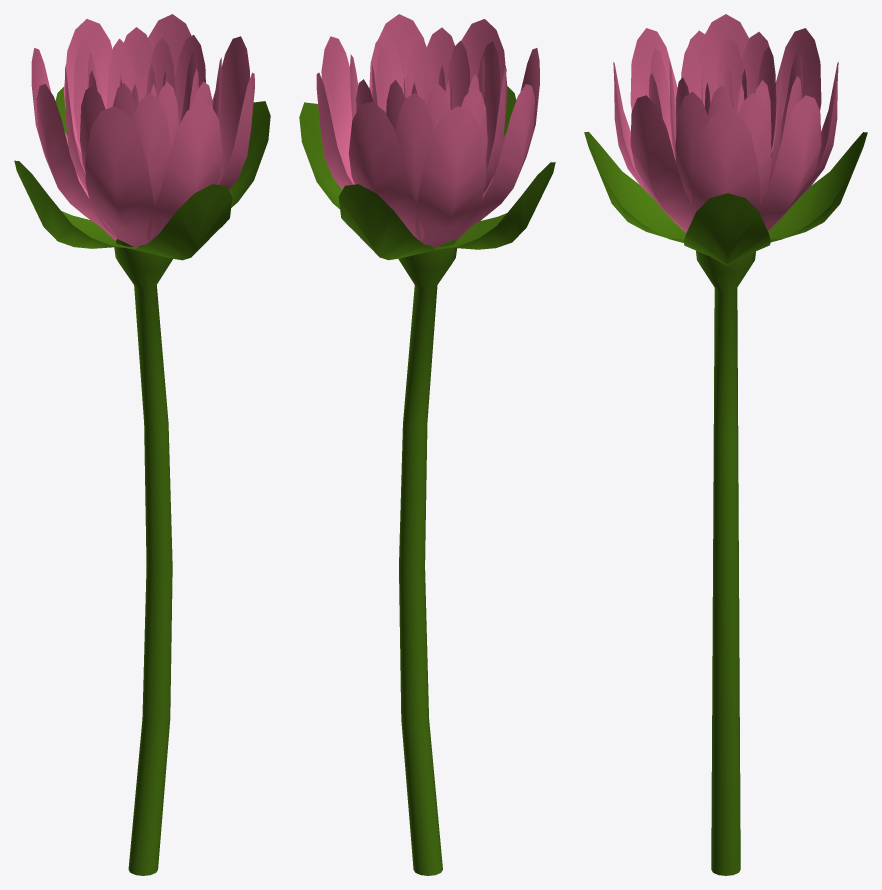
The model's file is FlowerLilyStandingPink.fbx.
3 views of the same model, side by side, from view 1: azimuth 30°, elevation 25°; view 2: azimuth 150°, elevation 25°; view 3: azimuth 270°, elevation 25° (orthographic).
Visible parts, largest first — view 1: Plane.018, Plane.017; view 2: Plane.018, Plane.017; view 3: Plane.018, Plane.017.
Boxes of the visible parts, x1=… form: Plane.018: x1=31, y1=14, x2=254, y2=247; Plane.017: x1=14, y1=87, x2=270, y2=875; Plane.018: x1=316, y1=14, x2=539, y2=247; Plane.017: x1=299, y1=86, x2=555, y2=875; Plane.018: x1=613, y1=14, x2=838, y2=232; Plane.017: x1=584, y1=131, x2=867, y2=875.
Size of the model in its own units: 114 by 359 by 114.
